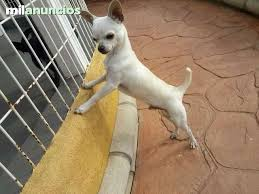chihuahua: (68, 2, 214, 170)
